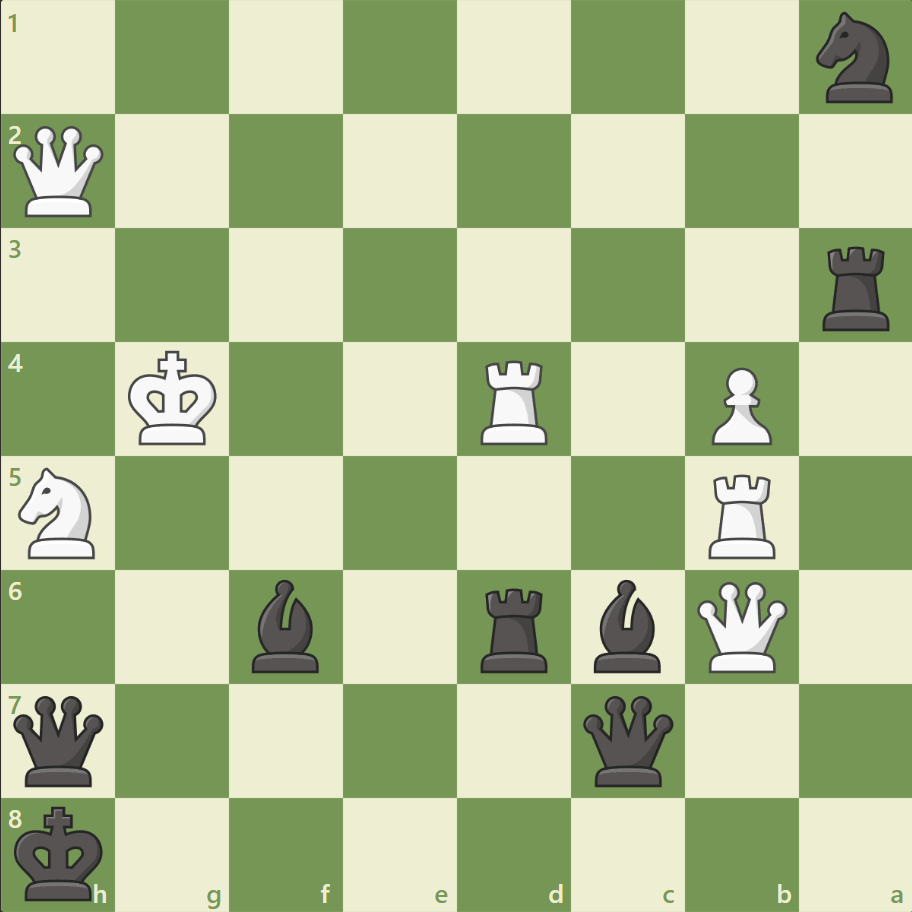K: (124, 344, 224, 452)
N: (11, 461, 108, 564)
P: (701, 359, 776, 450)
Q: (691, 576, 790, 676), (10, 122, 109, 222)
R: (700, 466, 783, 563), (473, 352, 556, 449)
b: (585, 574, 669, 676), (244, 574, 328, 676)
k: (11, 798, 111, 906)
n: (806, 7, 903, 110)
q: (578, 690, 677, 789), (10, 690, 109, 789)
r: (473, 579, 556, 676), (814, 239, 897, 336)
